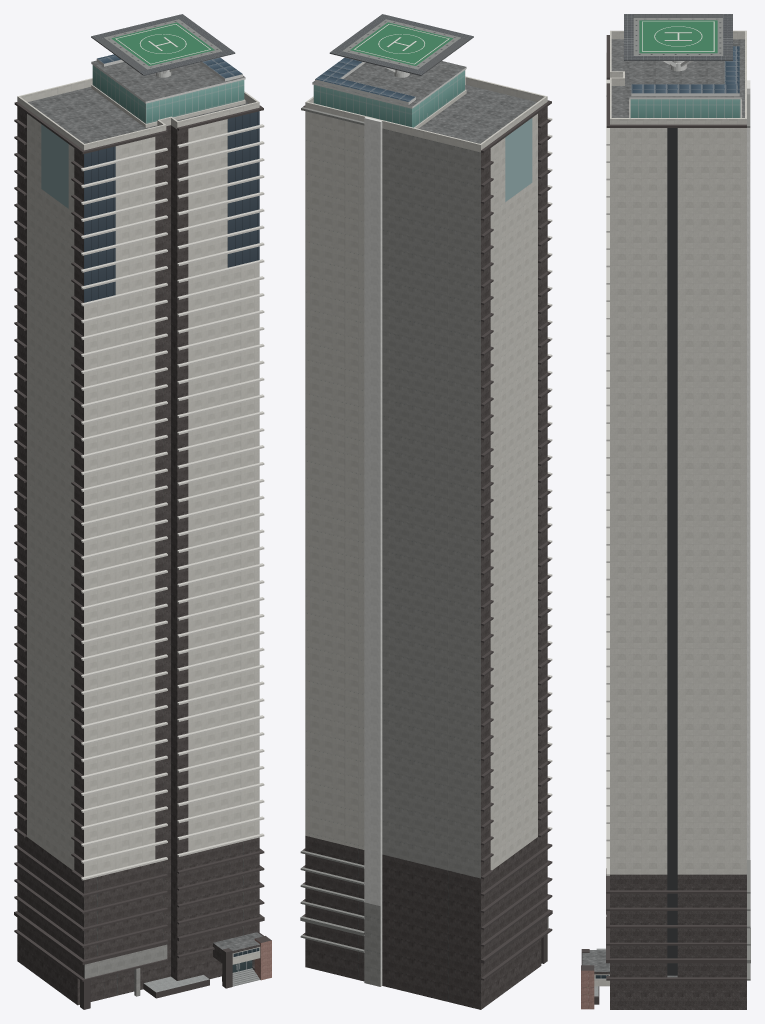
File: HighriseTower103_L1_5x4_LOD1.fbx
3 views of the same model, side by side, from view 1: azimuth 30°, elevation 25°; view 2: azimuth 150°, elevation 25°; view 3: azimuth 270°, elevation 25° (orthographic). The views are drawn at different scales.
Visible parts, largest first — view 1: HighriseTower103_L1_5x4_LOD1; view 2: HighriseTower103_L1_5x4_LOD1; view 3: HighriseTower103_L1_5x4_LOD1.
Boxes of the visible parts, <box> form: HighriseTower103_L1_5x4_LOD1: <box>14,14,271,1009</box>; HighriseTower103_L1_5x4_LOD1: <box>300,14,552,1009</box>; HighriseTower103_L1_5x4_LOD1: <box>581,14,750,1009</box>.
Size of the model in its own units: 3320 by 15917 by 2600.
1 material, 1 textured.
